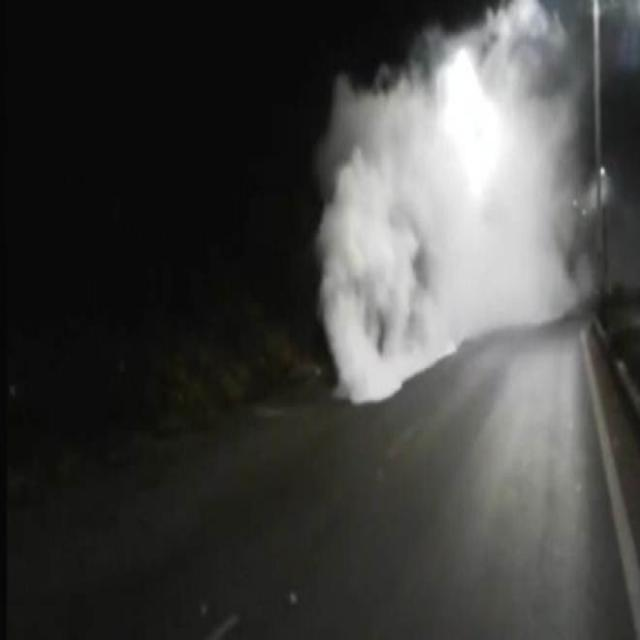Smoke: (315, 0, 594, 404)
